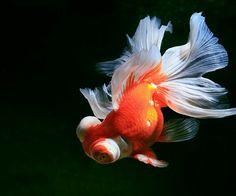goldfish: (68, 71, 186, 170)
